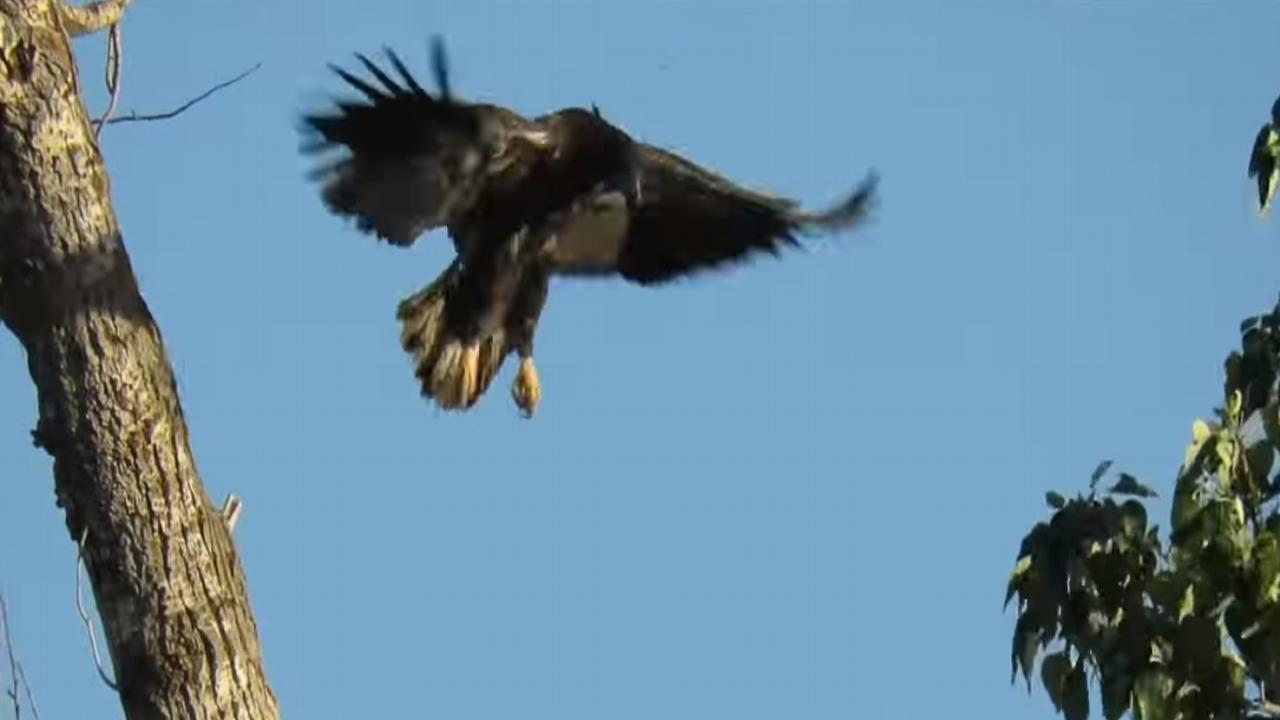Bird: (286, 19, 890, 429)
